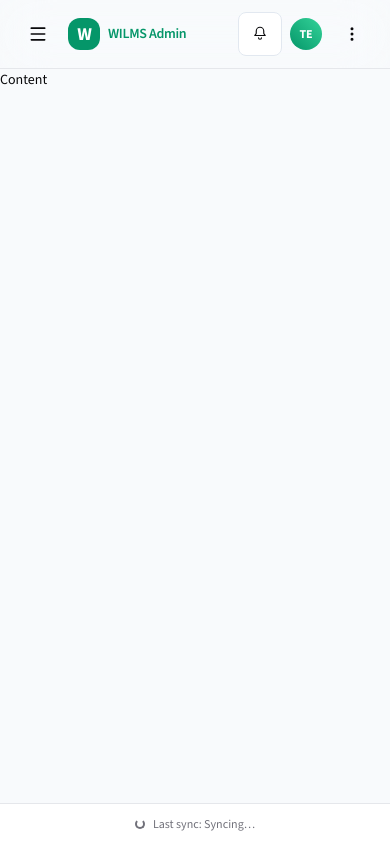
Scenario: super admin mobile navigation completeness › exposes every authorised Super Admin destination in the drawer at 360×800
Step 1. Click the button named "Open navigation menu" → [38, 34], box [16,12,60,56]
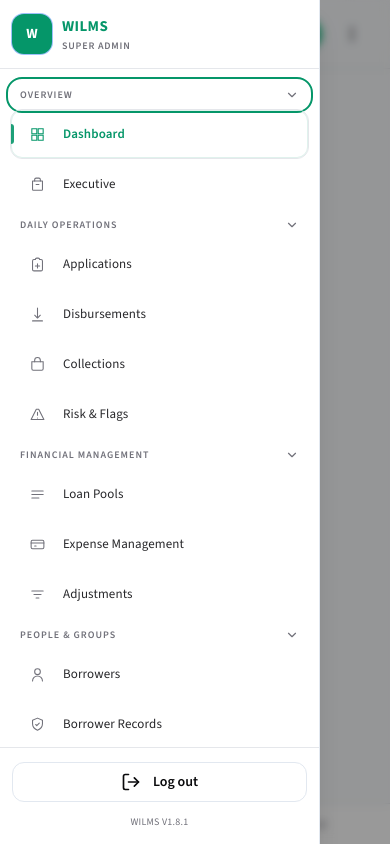
Now the element that starts with "WILMS" is shown
Now the button "Log out" is shown, box [12,762,307,802]
